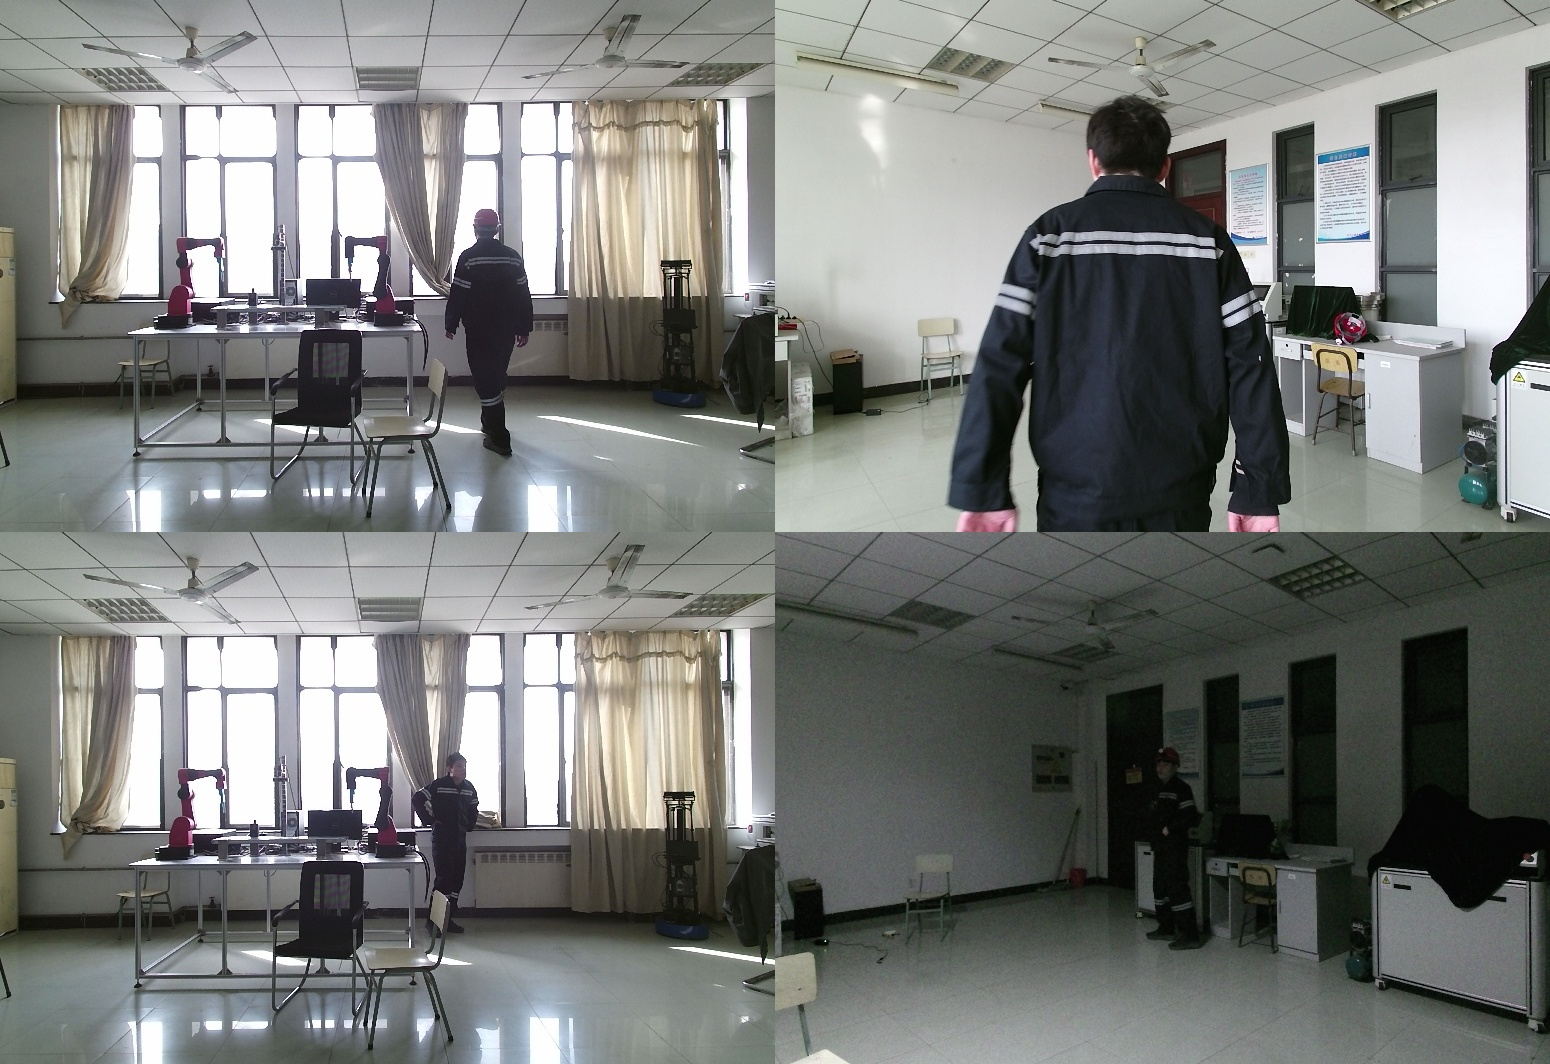person: (945, 94, 1291, 532), (449, 206, 541, 457), (1163, 747, 1229, 953), (413, 755, 479, 943)
